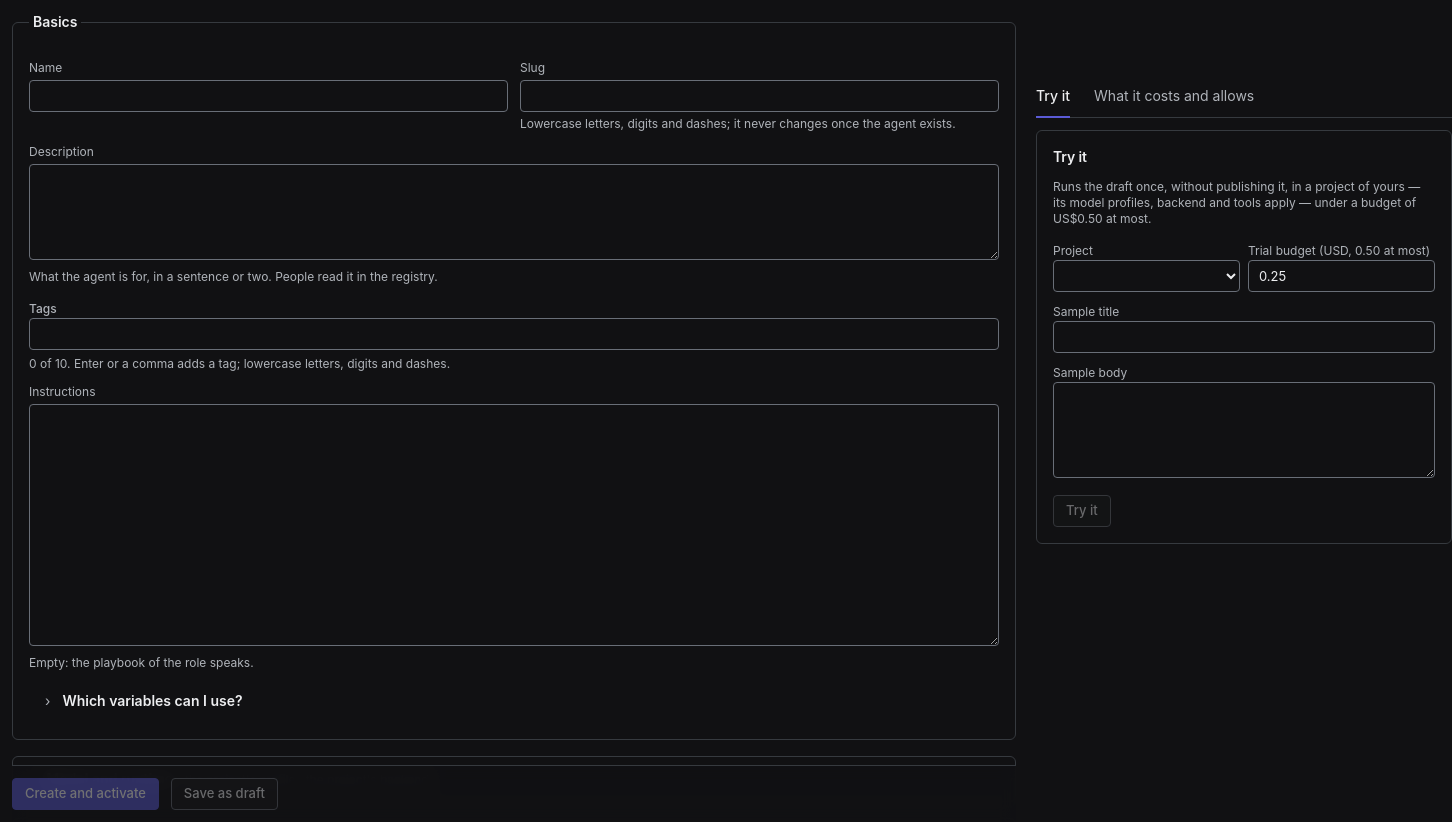
Test case: the builder › derives the slug from the name until the slug is edited by hand
Step 1. Type "Release Notes writer" into the field labelled "Name" → (268, 96), box [29,80,508,112]
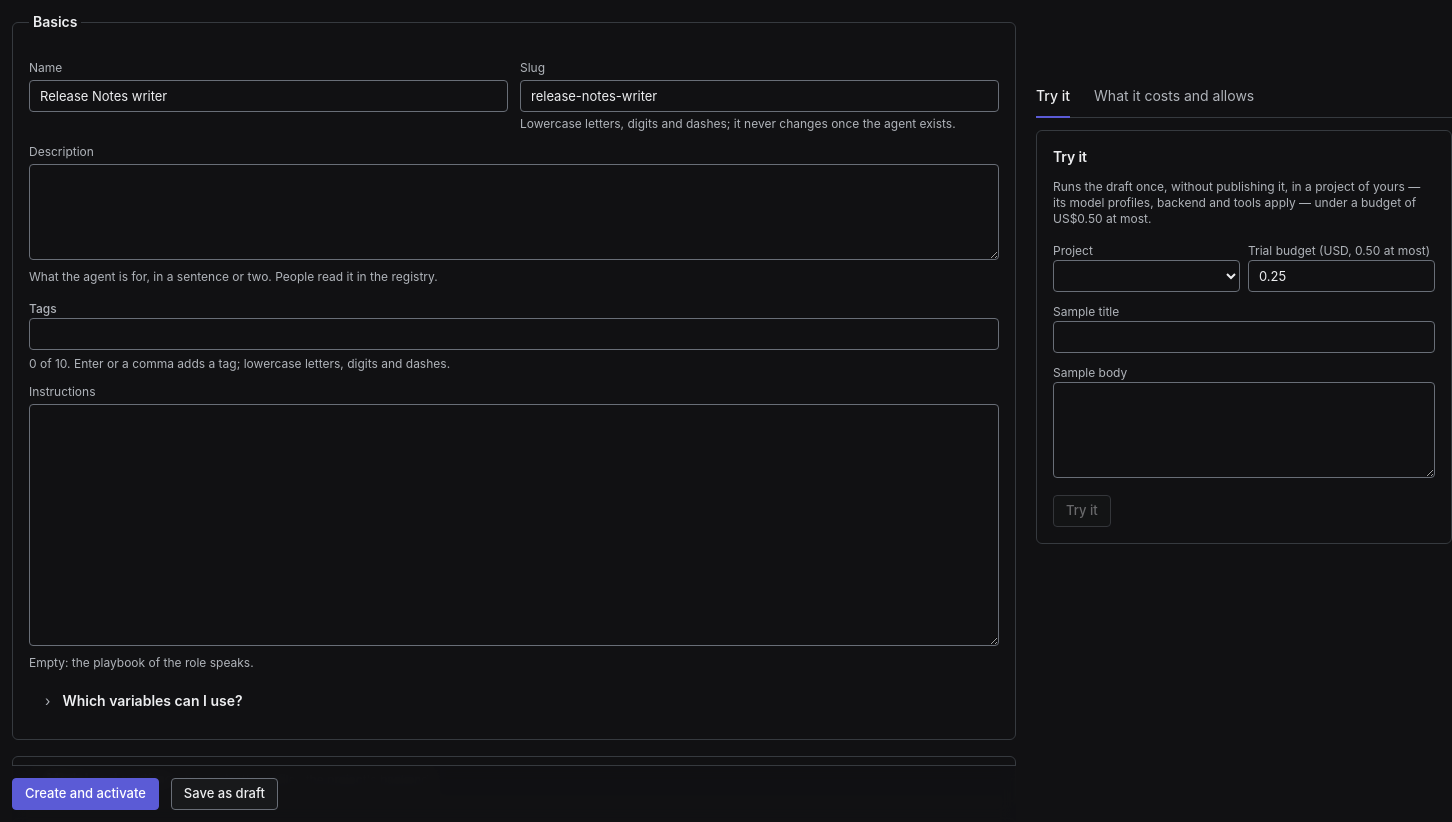
Now the field labelled "Slug" holds "release-notes-writer"
Step 2. Replace the text in the field labelled "Slug" with "notes" → (760, 96), box [520,80,999,112]
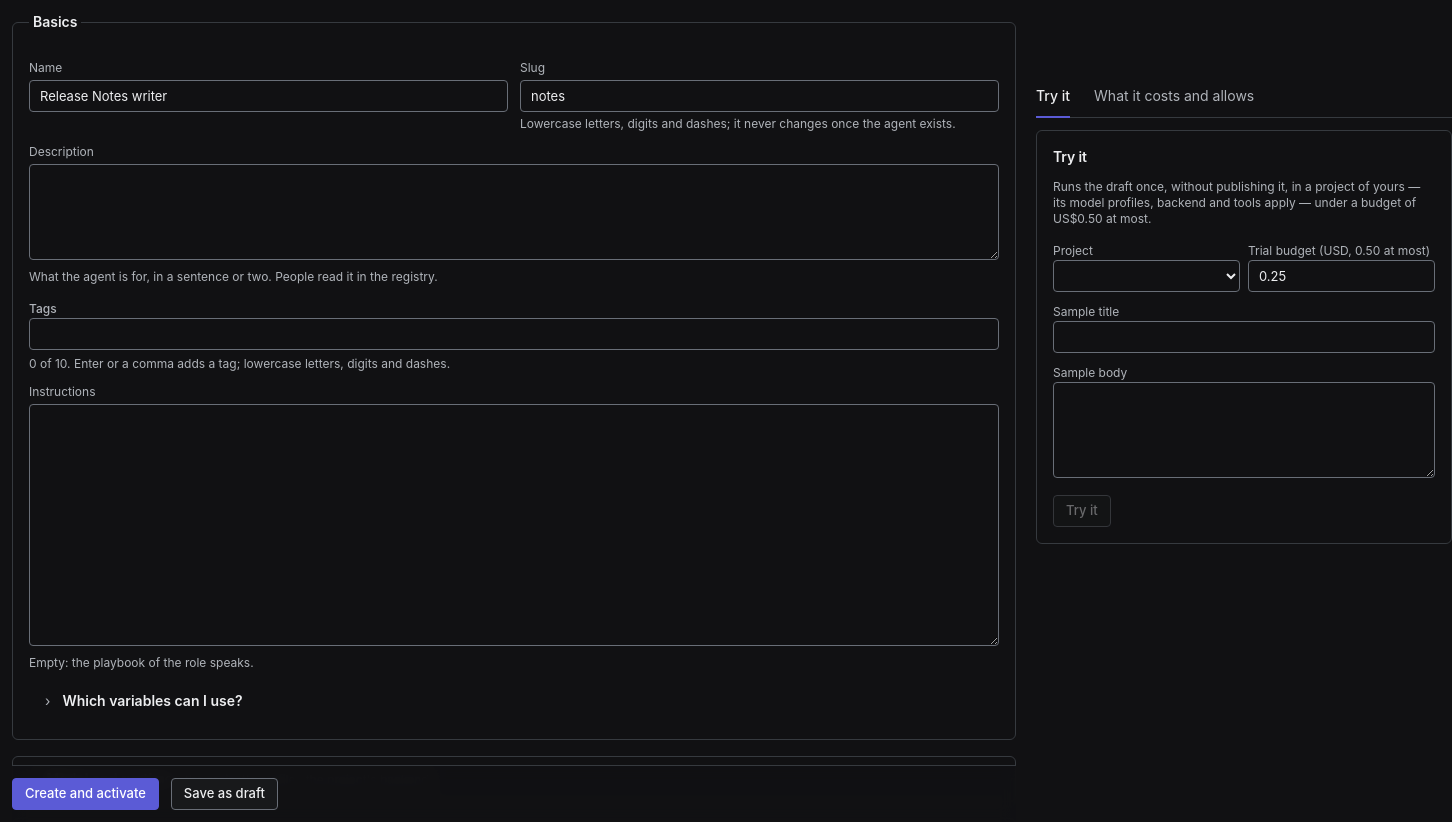
Step 3. Replace the text in the field labelled "Name" with "Something else" → (268, 96), box [29,80,508,112]
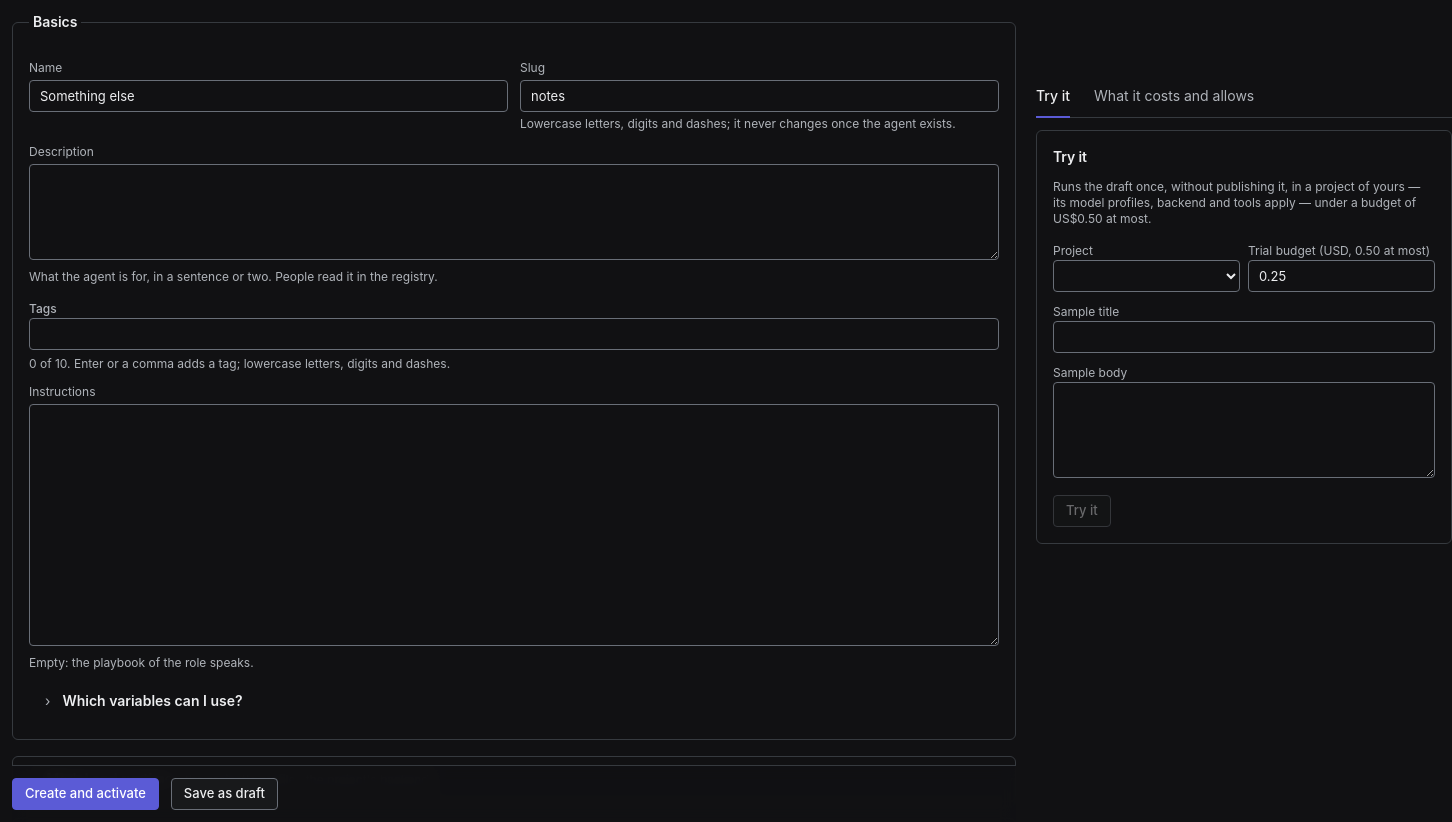
# A reserved slug is refused: `/agents/new` is a page.
Step 4. Replace the text in the field labelled "Slug" with "new" → (760, 96), box [520,80,999,112]
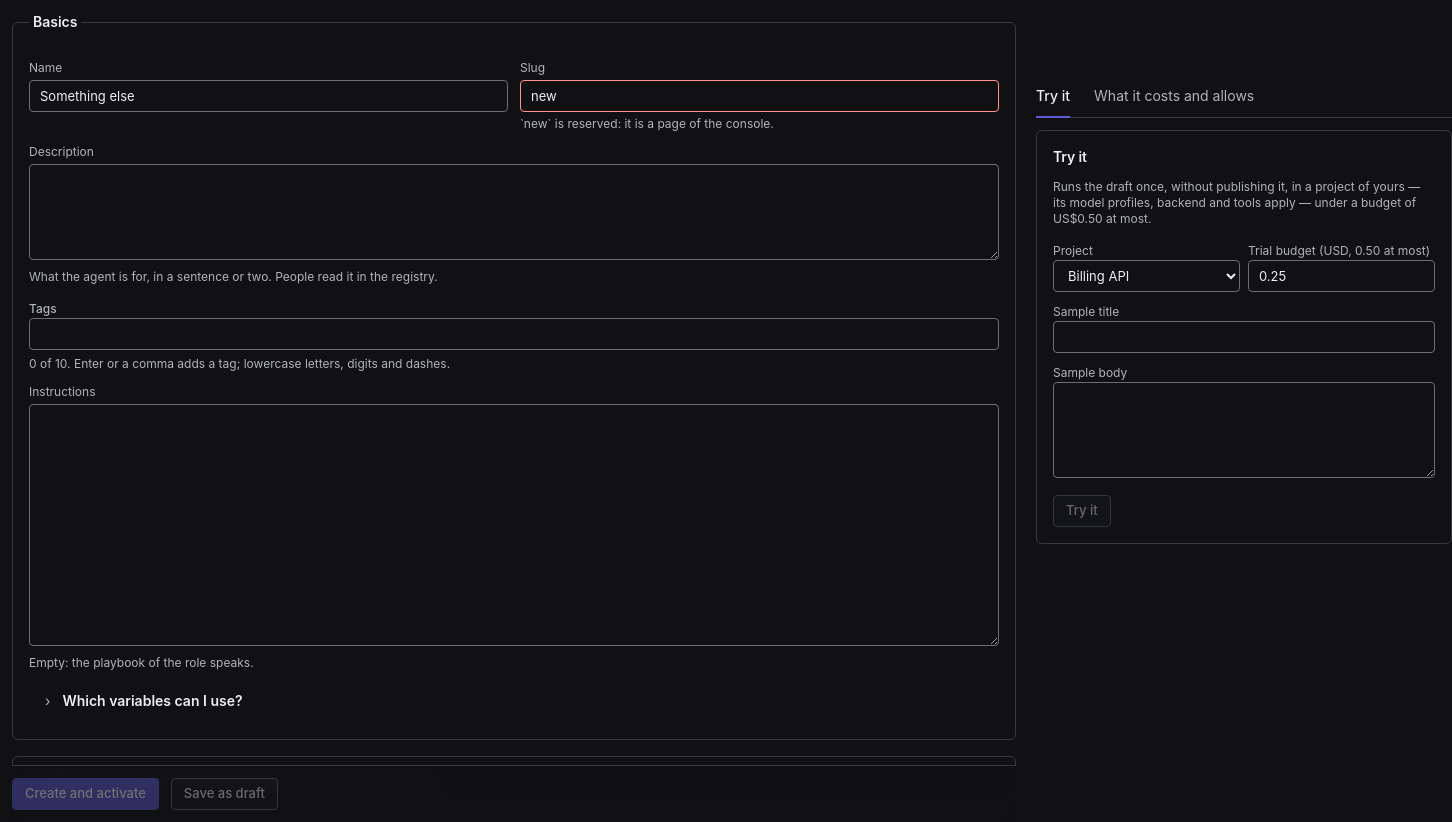
Now the text "`new` is reserved: it is a page of the console." is shown, box [520,116,774,131]
Now the button "Create and activate" is disabled, box [12,778,159,810]
Now the button "Save as draft" is disabled, box [171,778,278,810]
